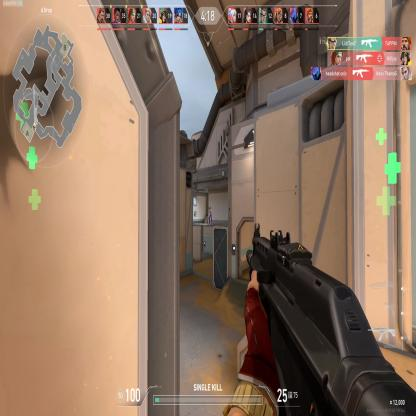enemy: (208, 205, 212, 226)
